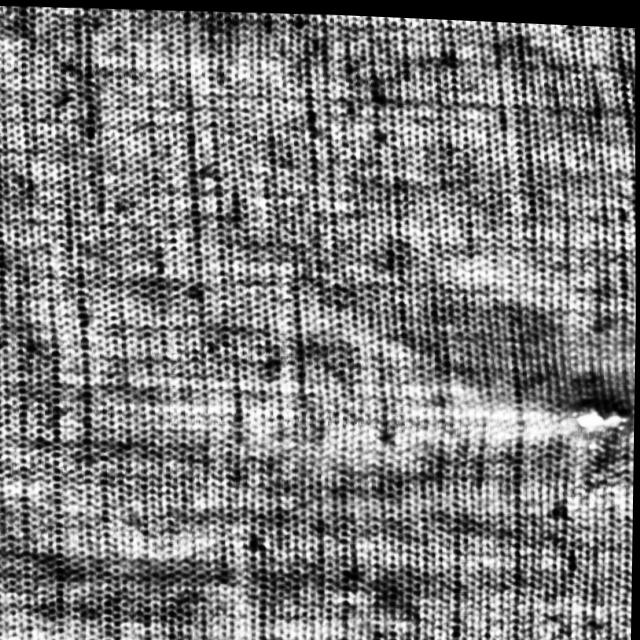Hole: (571, 393, 636, 434)
